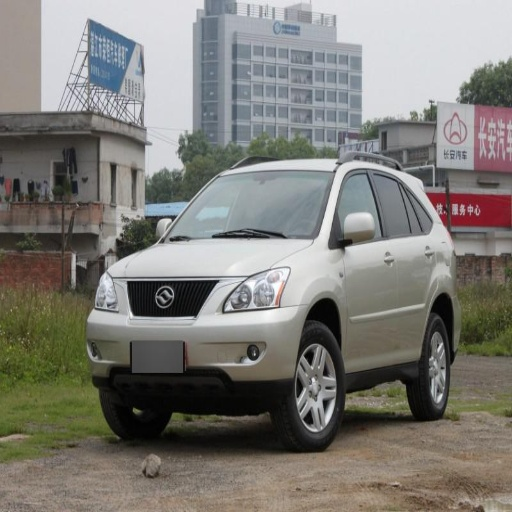back_glass: (370, 167, 435, 357)
back_right_light: (87, 273, 307, 385)
front_bumper: (163, 171, 333, 241)
front_glass: (334, 165, 398, 369)
front_left_door: (221, 266, 290, 312)
front_right_door: (94, 271, 120, 311)
front_right_light: (111, 240, 312, 277)
trunk: (275, 320, 344, 450), (408, 310, 451, 419), (101, 389, 170, 440)
